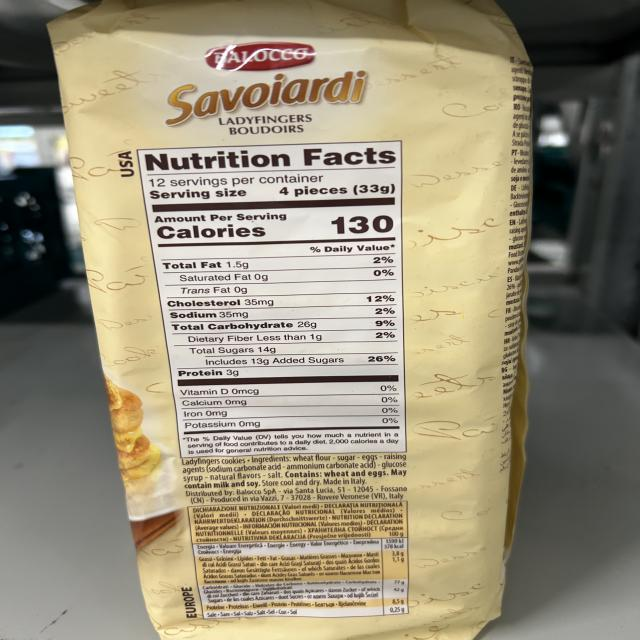object_name: (64, 8, 495, 640)
